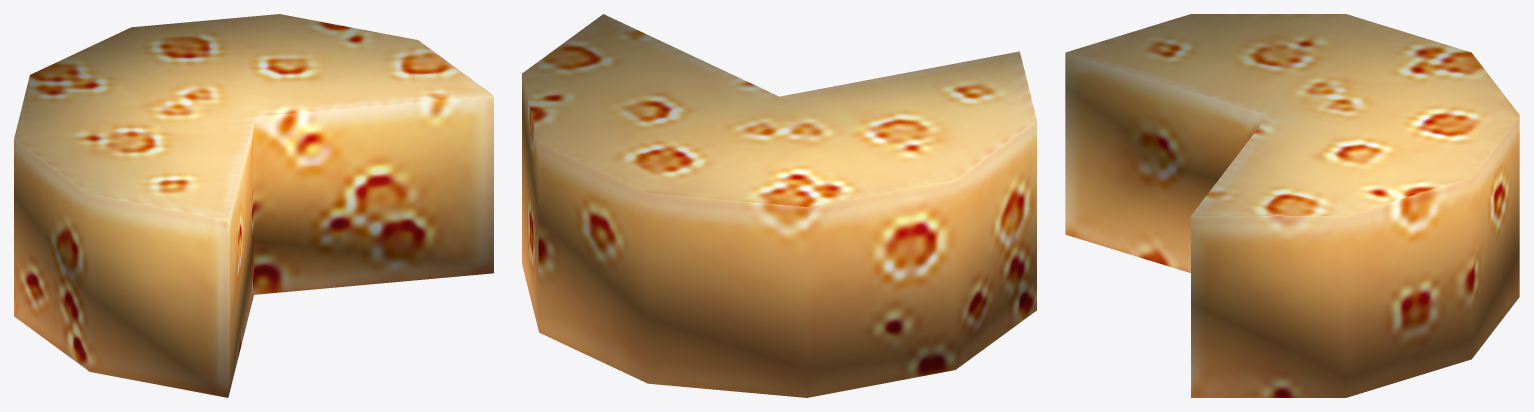
The model's file is cheese.fbx.
3 views of the same model, side by side, from view 1: azimuth 30°, elevation 25°; view 2: azimuth 150°, elevation 25°; view 3: azimuth 270°, elevation 25° (orthographic). The views are drawn at different scales.
Visible parts, largest first — view 1: cheese; view 2: cheese; view 3: cheese.
Boxes of the visible parts, left/top/right/bottom form: cheese: left=14, top=14, right=493, bottom=397; cheese: left=522, top=14, right=1036, bottom=397; cheese: left=1065, top=14, right=1519, bottom=397.
Size of the model in its own units: 1.9 by 0.8 by 1.81.
